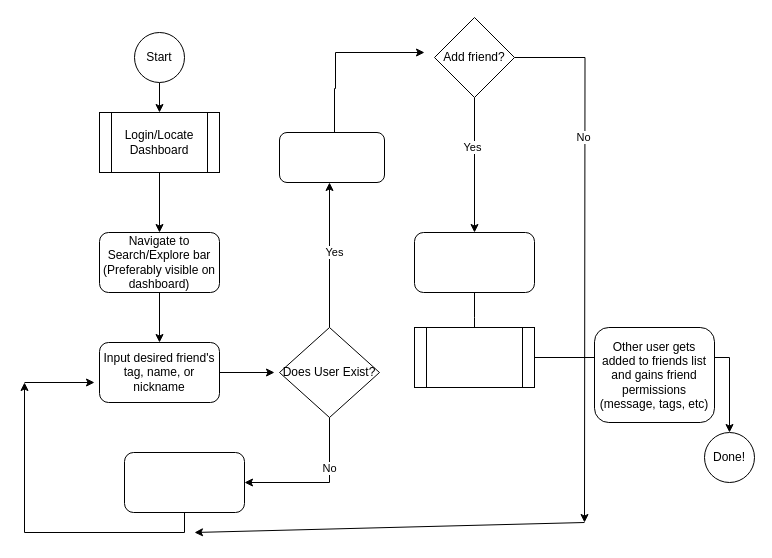
Image size: 772x558. Some labels were removed from this diagram. Here are the shapes that lost their labels. From the top down, the box of each, then its label:
(278, 132, 384, 182): Return potential match list with add options
(414, 232, 534, 292): Send friend request/message/notif to other User
(414, 326, 534, 388): Other user approves
(124, 452, 244, 512): User/Page not found display message
